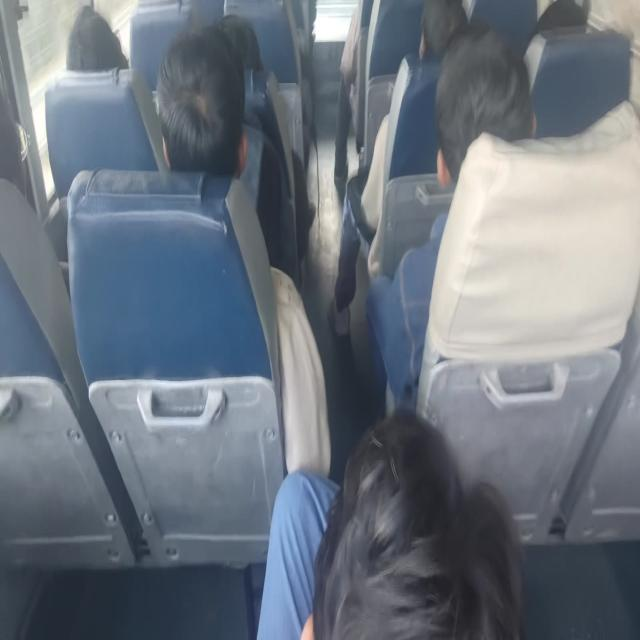person: (298, 429, 531, 640), (428, 41, 522, 220), (156, 48, 258, 185), (186, 8, 274, 72), (402, 0, 469, 71), (69, 18, 121, 89), (532, 0, 605, 50), (0, 105, 28, 200)
